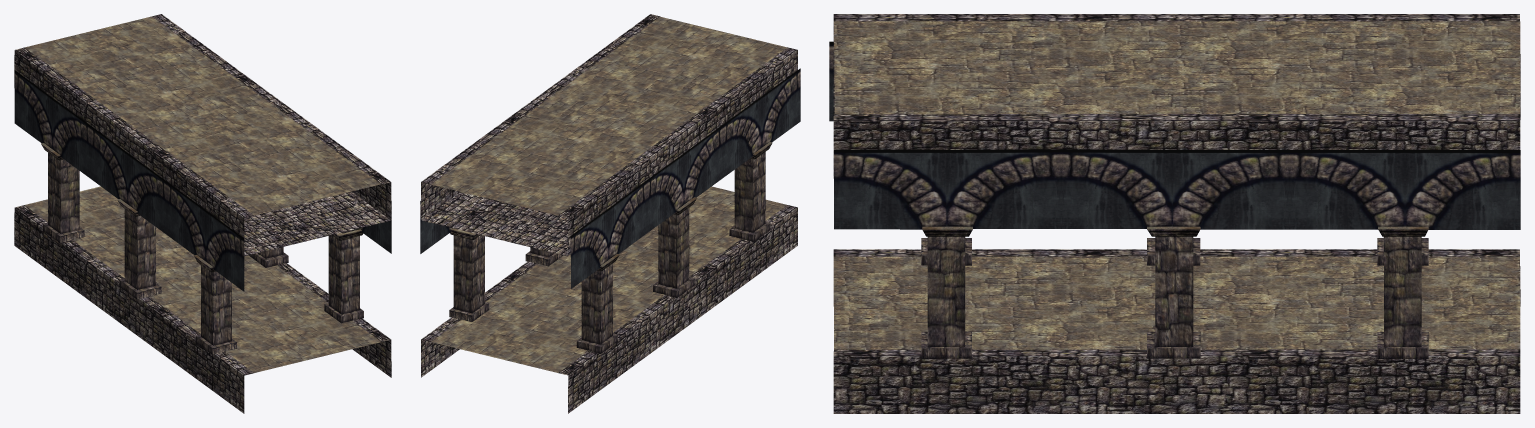
The model's file is pir_m_bld_frt_colonnade_small.fbx.
3 views of the same model, side by side, from view 1: azimuth 30°, elevation 25°; view 2: azimuth 150°, elevation 25°; view 3: azimuth 270°, elevation 25° (orthographic). The views are drawn at different scales.
Parts seen in each view (by area): view 1: bridge_columned_floor, bridge_columned_floor2, bridge_columned_geometry4_top_sidewall_left29, bridge_columned_geometry4_top_sidewall_left3, pasted__top2_underneth1, arch28, arch29, bridge_columned_geometry4_top_sidewall_left9, column102, column114, column113, column103 (+9 smaller); view 2: bridge_columned_floor, bridge_columned_floor2, bridge_columned_geometry4_top_sidewall_left29, bridge_columned_geometry4_top_sidewall_left3, pasted__top2_underneth1, arch28, arch29, bridge_columned_geometry4_top_sidewall_left9, column110, column113, column114, column103 (+8 smaller); view 3: bridge_columned_floor, bridge_columned_floor2, bridge_columned_geometry4_top_sidewall_left28, bridge_columned_geometry4_top_sidewall_left9, arch24, arch25, arch23, arch26, bridge_columned_geometry4_top_sidewall_left3, column111, column102, bridge_columned_geometry4_top_sidewall_left29 (+4 smaller).
Part boxes in pixels (left/top/right/bottom): bridge_columned_floor: left=25, top=16, right=380, bottom=215; bridge_columned_floor2: left=25, top=186, right=380, bottom=372; bridge_columned_geometry4_top_sidewall_left29: left=14, top=205, right=253, bottom=413; bridge_columned_geometry4_top_sidewall_left3: left=14, top=47, right=253, bottom=237; pasted__top2_underneth1: left=244, top=191, right=391, bottom=256; arch28: left=128, top=153, right=205, bottom=260; arch29: left=52, top=98, right=127, bottom=204; bridge_columned_geometry4_top_sidewall_left9: left=152, top=14, right=391, bottom=220; column102: left=328, top=235, right=359, bottom=314; column114: left=48, top=152, right=79, bottom=233; column113: left=124, top=209, right=155, bottom=289; column103: left=201, top=265, right=231, bottom=345; bridge_columned_floor: left=431, top=16, right=787, bottom=215; bridge_columned_floor2: left=431, top=186, right=786, bottom=372; bridge_columned_geometry4_top_sidewall_left29: left=558, top=205, right=797, bottom=413; bridge_columned_geometry4_top_sidewall_left3: left=558, top=47, right=797, bottom=255; pasted__top2_underneth1: left=421, top=191, right=568, bottom=256; arch28: left=684, top=96, right=761, bottom=203; arch29: left=608, top=153, right=684, bottom=259; bridge_columned_geometry4_top_sidewall_left9: left=421, top=14, right=659, bottom=219; column110: left=453, top=235, right=484, bottom=313; column113: left=658, top=208, right=689, bottom=288; column114: left=581, top=263, right=612, bottom=344; column103: left=734, top=152, right=765, bottom=232; bridge_columned_floor: left=834, top=21, right=1520, bottom=114; bridge_columned_floor2: left=833, top=256, right=1520, bottom=349; bridge_columned_geometry4_top_sidewall_left28: left=833, top=349, right=1520, bottom=413; bridge_columned_geometry4_top_sidewall_left9: left=833, top=114, right=1520, bottom=178; arch24: left=1173, top=150, right=1404, bottom=229; arch25: left=946, top=149, right=1172, bottom=228; arch23: left=1405, top=150, right=1520, bottom=229; arch26: left=834, top=149, right=946, bottom=229; bridge_columned_geometry4_top_sidewall_left3: left=833, top=14, right=1520, bottom=70; column111: left=1155, top=236, right=1193, bottom=346; column102: left=927, top=236, right=965, bottom=346; bridge_columned_geometry4_top_sidewall_left29: left=833, top=249, right=1520, bottom=306.
Size of the model in its own units: 3280 by 3935 by 8428.
5 materials, 5 textured.
